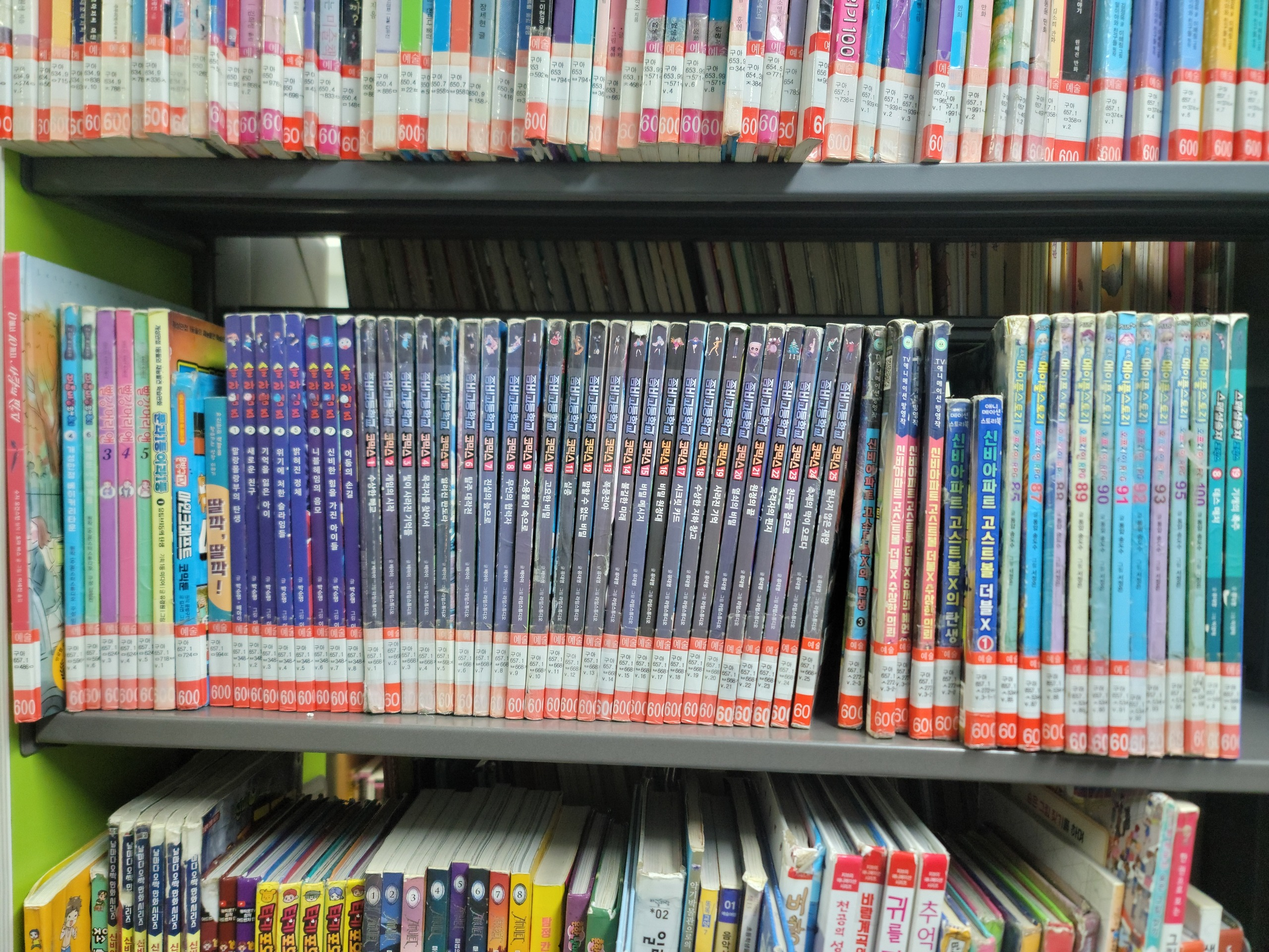book-spine: (768, 325, 843, 733), (788, 325, 862, 733), (731, 325, 804, 730), (749, 328, 822, 732), (713, 324, 785, 730), (697, 323, 766, 726), (679, 322, 747, 728), (662, 325, 726, 726), (645, 324, 707, 726), (628, 322, 687, 726), (611, 322, 669, 725), (595, 322, 649, 724), (576, 322, 630, 720), (837, 327, 887, 736), (559, 320, 608, 720), (870, 320, 913, 741), (543, 321, 588, 720), (524, 319, 567, 721), (0, 252, 35, 726), (911, 322, 949, 739), (505, 318, 544, 720), (1039, 314, 1073, 754), (1084, 310, 1117, 758), (488, 323, 525, 718), (891, 323, 926, 738), (995, 314, 1028, 750), (1017, 316, 1049, 753), (1063, 314, 1095, 751), (1144, 314, 1175, 760), (933, 399, 973, 739), (1219, 309, 1248, 758), (1106, 314, 1135, 756), (1126, 315, 1155, 756), (1164, 312, 1192, 756), (283, 313, 314, 711), (968, 396, 1003, 747), (472, 320, 502, 718), (168, 363, 202, 712), (1203, 308, 1229, 759), (267, 313, 296, 714), (335, 319, 364, 714), (318, 317, 347, 710), (1186, 307, 1211, 756), (356, 316, 384, 710), (303, 314, 330, 712), (149, 309, 175, 708), (252, 315, 278, 711), (59, 308, 84, 711), (456, 317, 481, 717), (224, 314, 249, 709), (376, 316, 401, 711), (95, 307, 119, 710), (202, 396, 232, 705), (395, 318, 418, 711), (239, 320, 262, 709), (80, 307, 101, 711), (116, 311, 137, 711), (134, 311, 154, 710), (435, 317, 455, 715), (417, 316, 435, 715)
